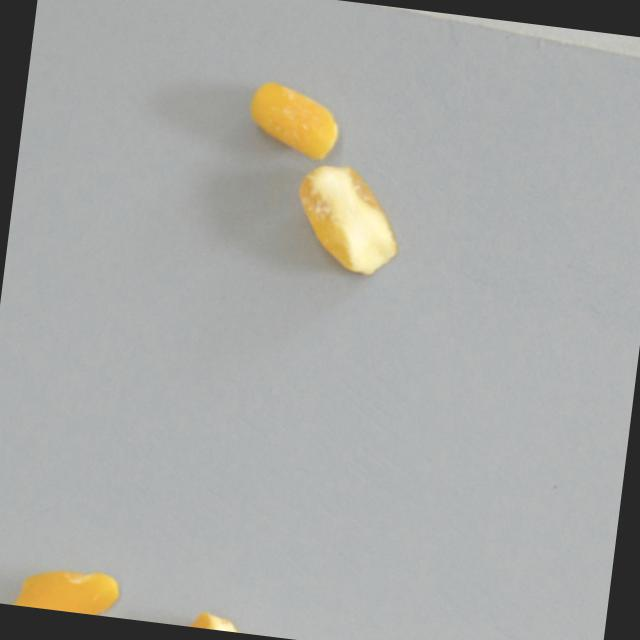estandar: (242, 78, 342, 162), (7, 560, 120, 617)
pelicula: (288, 160, 407, 278), (150, 605, 253, 634)
